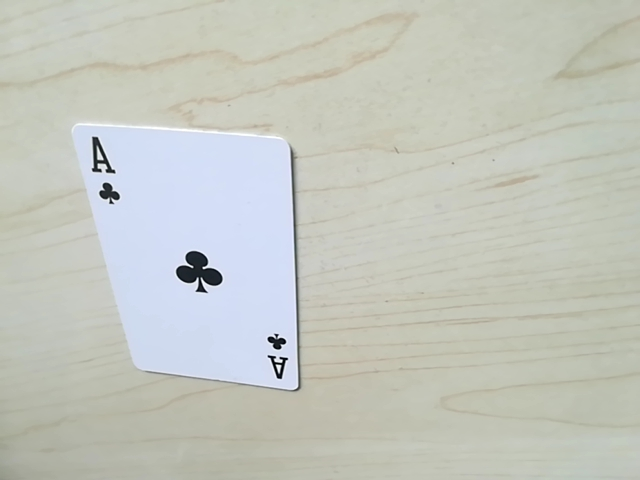mh a: (82, 138, 125, 213), (263, 326, 292, 387)
